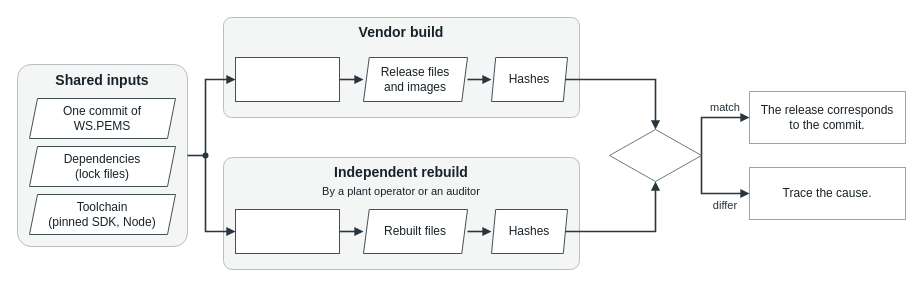
The diagram is 923 pixels wide and 287 high, and some of its shapes have lost their labels. Each missing label, with the centre of its shape:
Another machine: point (287, 231)
Compare: point (655, 155)
GitHub Actions: point (287, 79)
